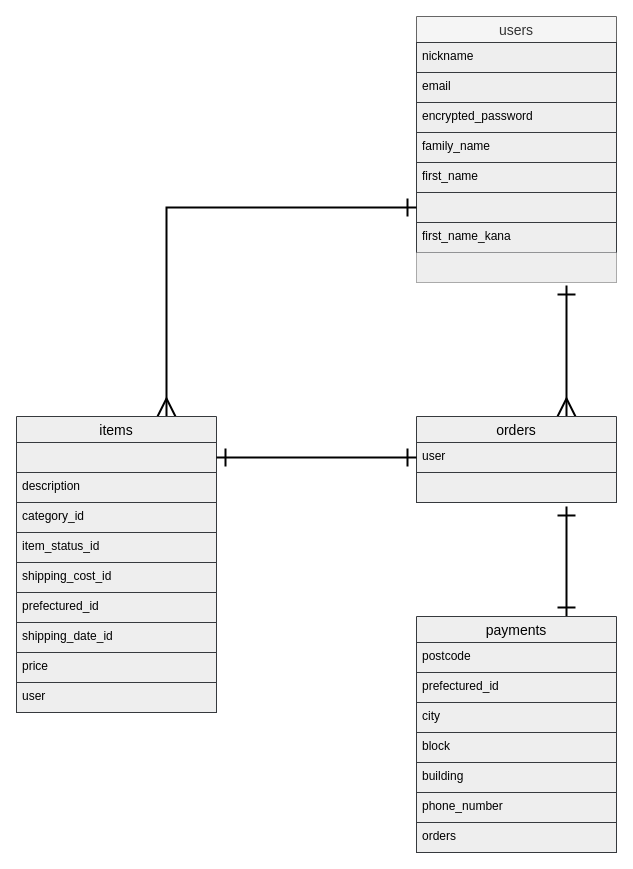
Image size: 633x869. Some labels were removed from this diagram. The centre of each missing label's shape, as x and y in pixels:
"birthday" goes at [516,267].
"family_name_kana" goes at [516,207].
"item" goes at [516,487].
"name" goes at [116,457].
